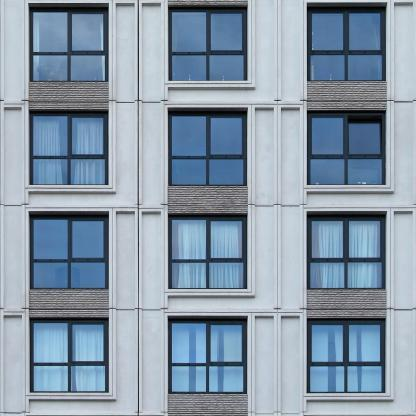Building Outline: (0, 0, 416, 416)
Facade: (1, 0, 416, 415)
Floor: (1, 0, 416, 102), (1, 315, 416, 416), (1, 211, 416, 308), (1, 108, 416, 205)
Floor Slab: (1, 101, 416, 108), (1, 308, 416, 315), (1, 205, 416, 211)
Window: (307, 3, 387, 81), (307, 211, 387, 289), (29, 4, 109, 82), (29, 211, 109, 289), (168, 108, 248, 186), (168, 316, 248, 393), (307, 318, 387, 394), (168, 5, 248, 81), (169, 213, 249, 289), (307, 110, 387, 185), (29, 317, 109, 392), (29, 110, 109, 185)
